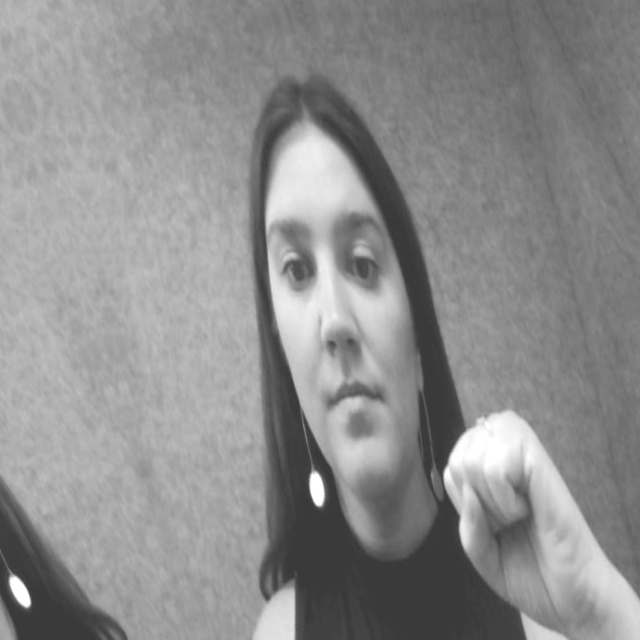Rock: (0, 576, 8, 640)
